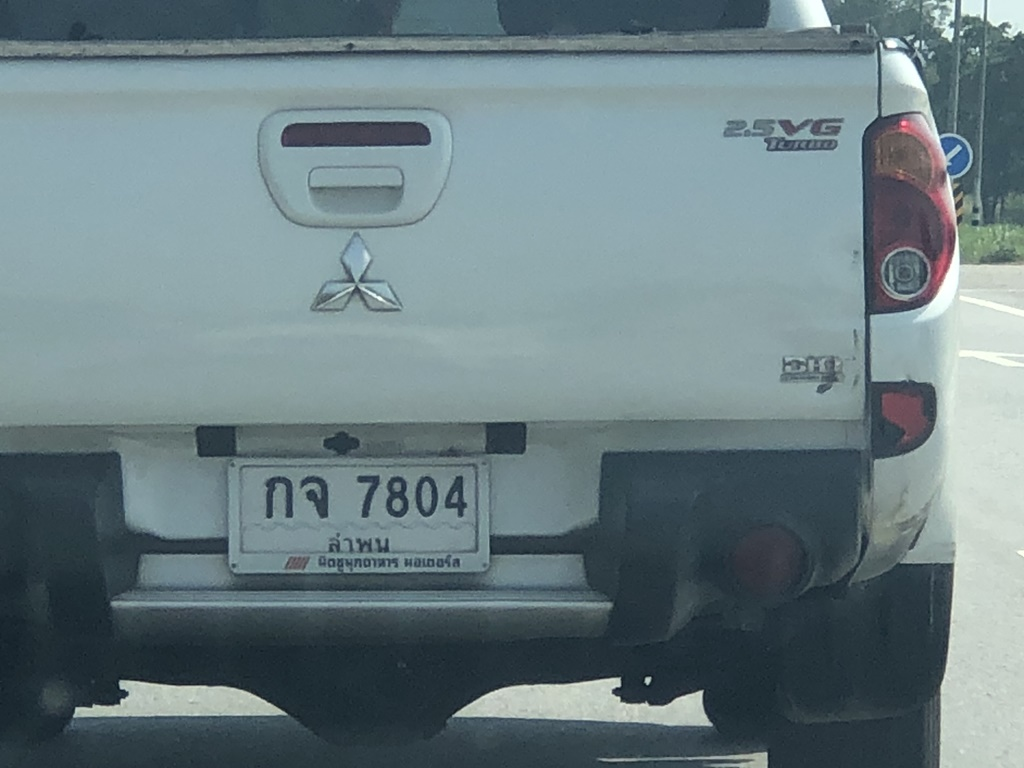zero: (411, 461, 439, 524)
